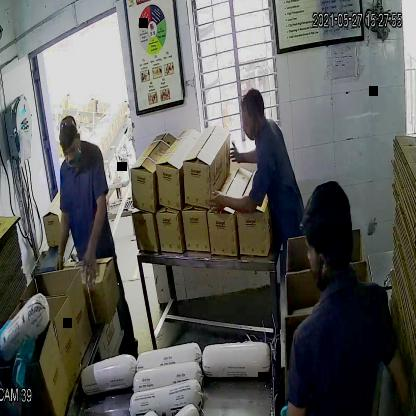no_goggles: (61, 144, 80, 160)
